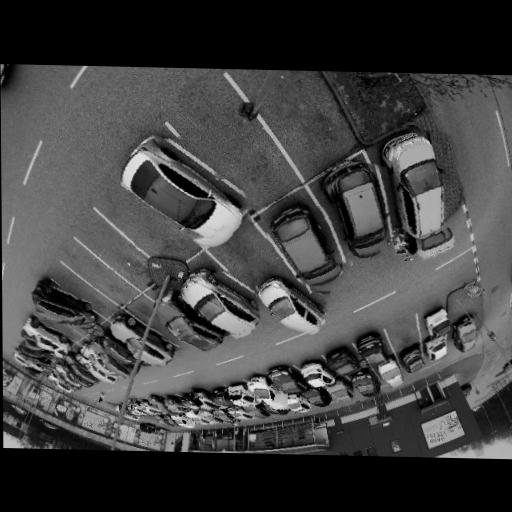busy: (117, 129, 249, 249), (383, 127, 457, 262), (327, 160, 402, 270), (264, 203, 341, 287), (180, 268, 261, 340), (250, 274, 329, 333), (33, 281, 94, 335), (159, 299, 220, 351), (112, 316, 173, 364), (88, 336, 138, 379), (24, 318, 69, 354), (358, 334, 393, 367), (248, 373, 283, 406), (300, 360, 337, 390), (325, 345, 360, 376), (271, 366, 309, 393), (421, 307, 452, 337), (454, 319, 482, 352), (349, 370, 380, 398), (20, 339, 55, 363), (424, 335, 451, 362), (399, 347, 427, 373), (226, 383, 255, 408), (374, 360, 402, 385), (326, 384, 353, 404), (167, 396, 193, 415), (284, 395, 311, 413), (211, 387, 233, 409), (259, 401, 289, 417), (308, 388, 331, 407)
free: (270, 86, 334, 137), (211, 128, 274, 179), (122, 206, 161, 239), (101, 242, 132, 265), (393, 324, 420, 347), (89, 266, 117, 287), (45, 319, 72, 337), (69, 283, 92, 300)
